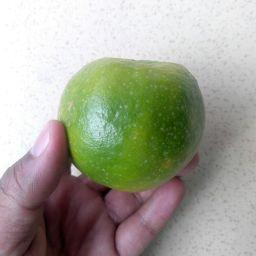Unripe: (61, 57, 205, 190)
